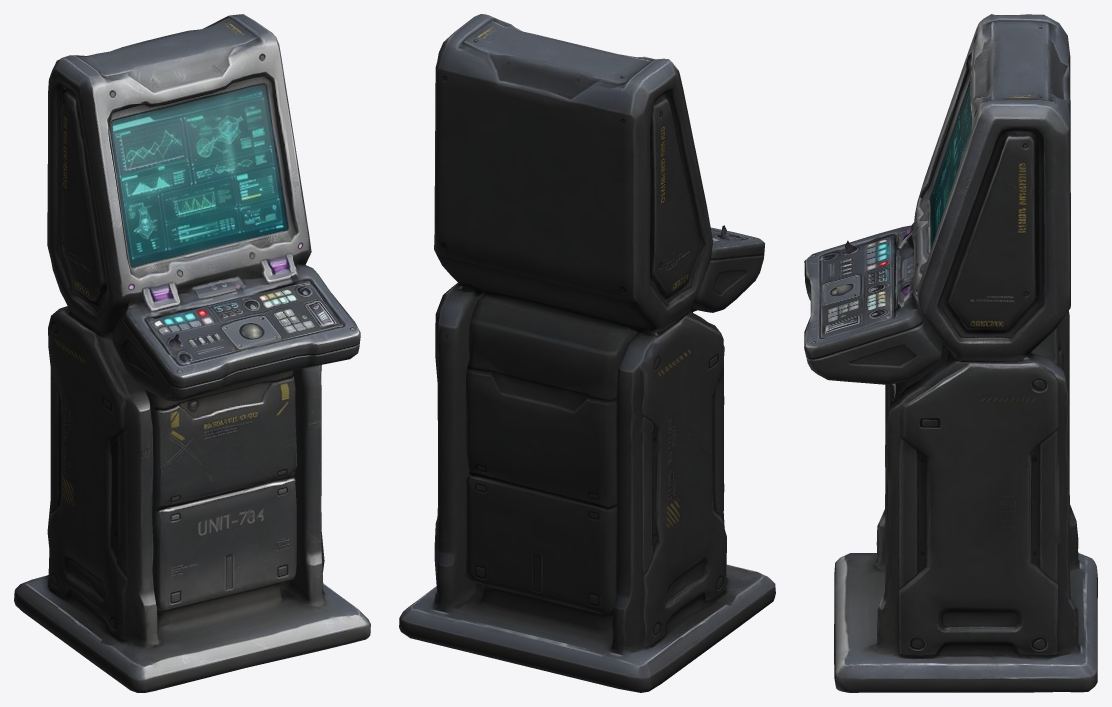
Rendered from terminal_vertical.glb.
3 renders of one model, left to right at view 1: azimuth 30°, elevation 25°; view 2: azimuth 150°, elevation 25°; view 3: azimuth 270°, elevation 25°, orthographic. The views are drawn at different scales.
Parts seen in each view (by area): view 1: tripo_node_7c5f66d8-1f08-44e1-876c-92f3db317d0c; view 2: tripo_node_7c5f66d8-1f08-44e1-876c-92f3db317d0c; view 3: tripo_node_7c5f66d8-1f08-44e1-876c-92f3db317d0c.
Boxes of the visible parts, box(x1,y1,x2,y2) form: tripo_node_7c5f66d8-1f08-44e1-876c-92f3db317d0c: box(14, 14, 370, 692); tripo_node_7c5f66d8-1f08-44e1-876c-92f3db317d0c: box(399, 14, 775, 692); tripo_node_7c5f66d8-1f08-44e1-876c-92f3db317d0c: box(804, 14, 1097, 692).
Bounding box in the file's own units: 0.4504 × 0.9997 × 0.4618.
1 material, 1 textured.
